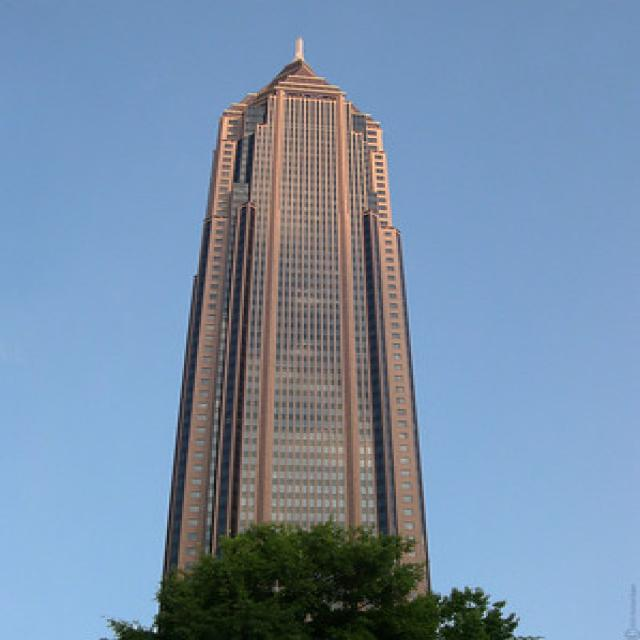building: (152, 60, 441, 639)
